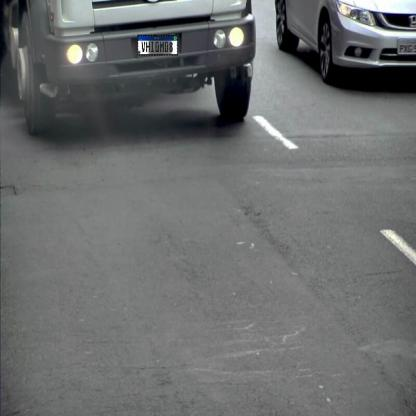PlacaM: (137, 35, 178, 56)
